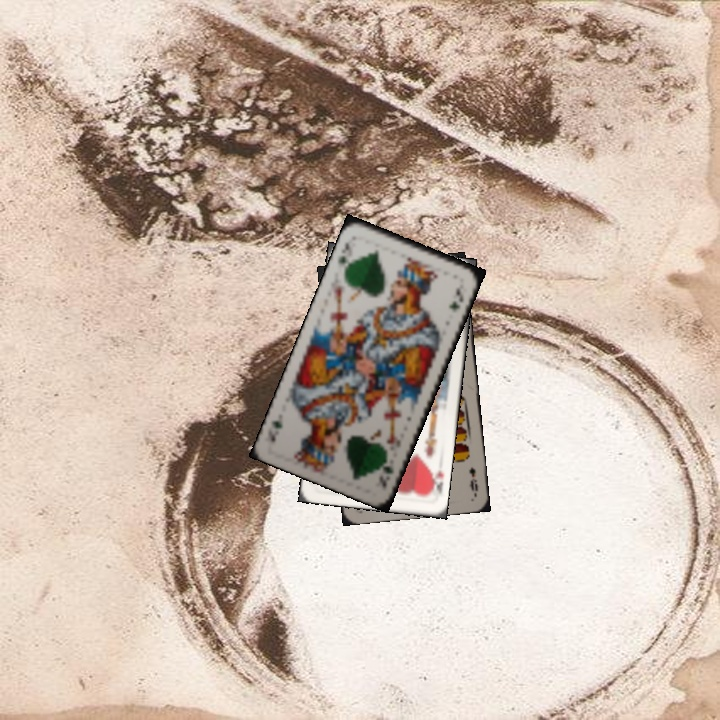E9: (465, 463, 481, 496)
GK: (375, 451, 397, 490), (333, 234, 355, 273)
HK: (424, 464, 446, 498)
